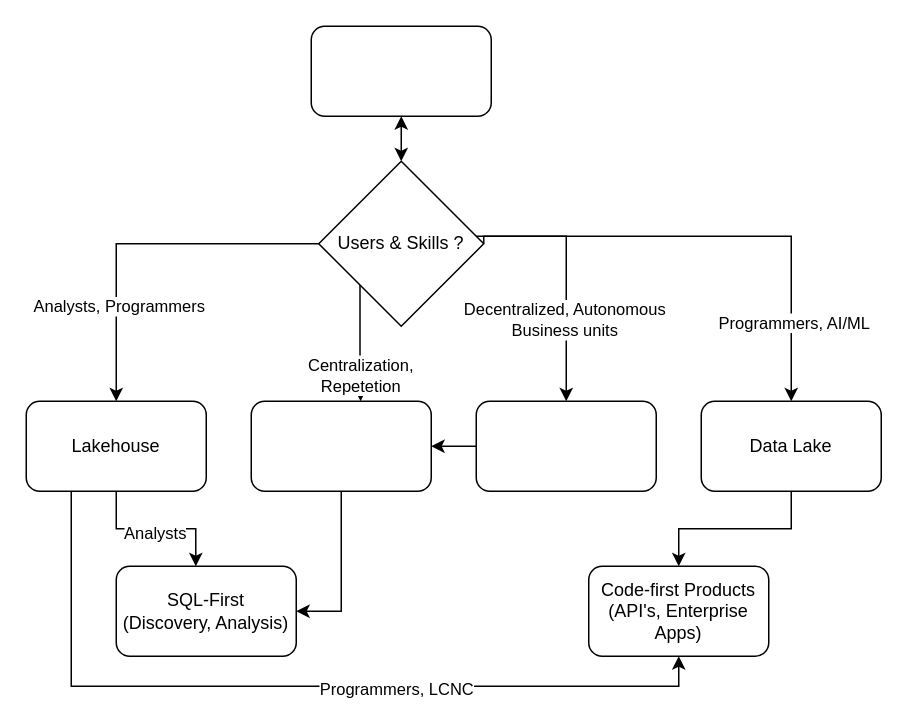
Some shapes in this 908 by 725 pixel diagram are drawn without their labels. The centre of each missing label's shape, as x and y in pixels:
Data Architecture ?: [400,70]
Data Mesh: [565,445]
Data Warehouse: [340,445]
